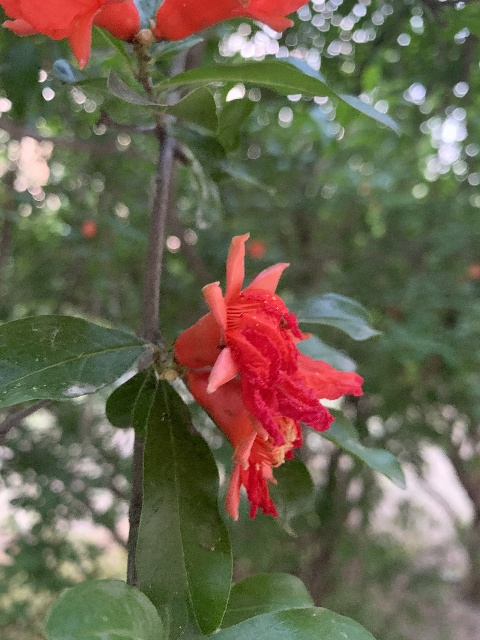flower: (173, 233, 365, 434), (185, 369, 303, 520), (0, 0, 143, 68), (154, 0, 319, 42)
